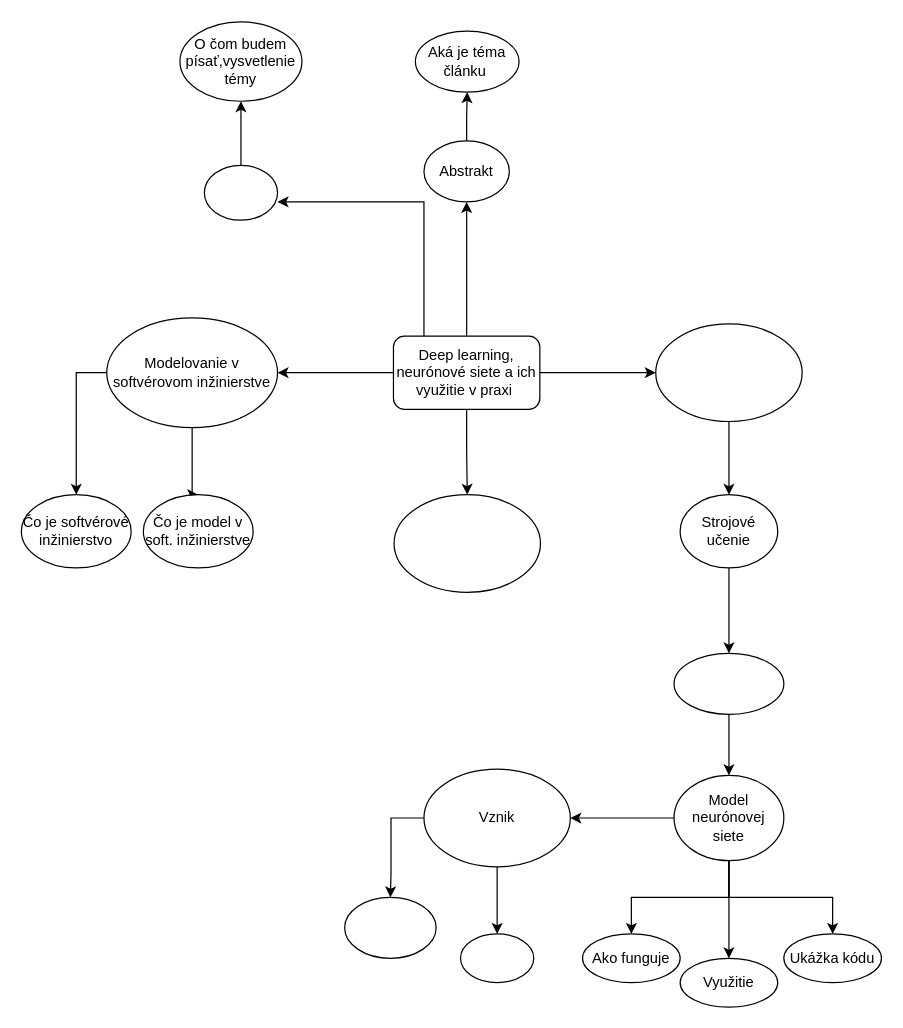
Image size: 903x1028. Some labels were removed from this diagram. Here are the shapes that lost their labels. From the top down, the centre of each, then its label:
the point at 240,192: Úvod
the point at 728,372: Umelá inteligencia
the point at 466,542: Budúcnosť
the point at 728,683: Deep learning
the point at 389,927: mozgové neuróny
the point at 496,958: Vývoj
